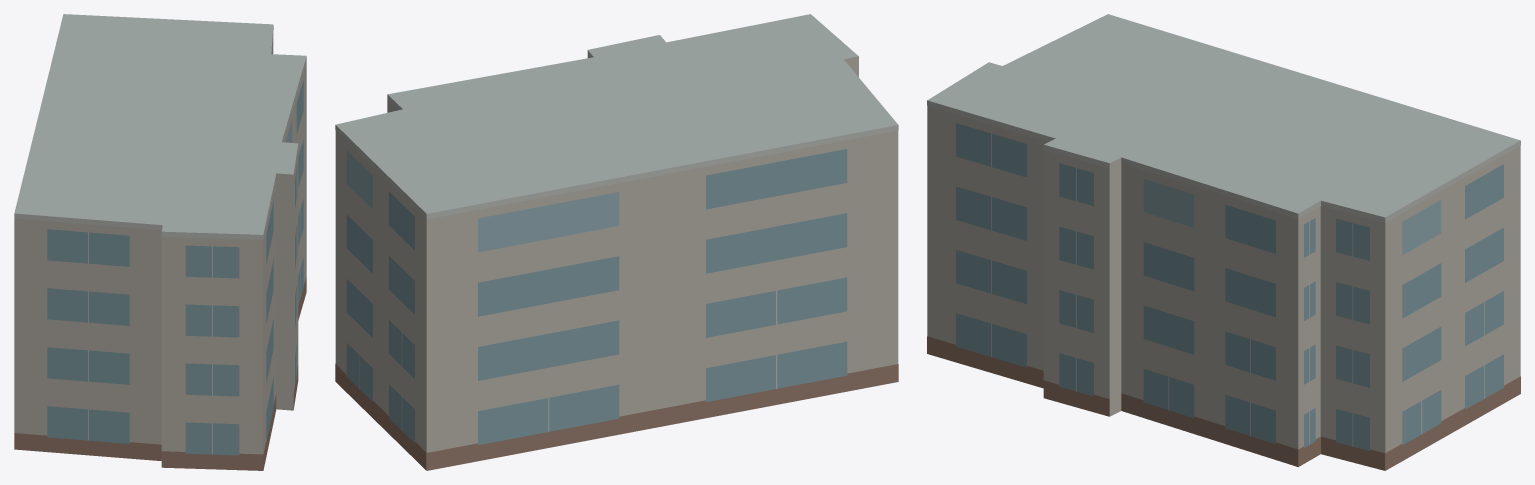
Rendered from survey-upis-32491895.glb.
3 renders of one model, left to right at view 1: azimuth 30°, elevation 25°; view 2: azimuth 150°, elevation 25°; view 3: azimuth 270°, elevation 25°, orthographic. The views are drawn at different scales.
Visible parts, largest first — view 1: survey-upis-32491895.tmp; view 2: survey-upis-32491895.tmp; view 3: survey-upis-32491895.tmp.
Part boxes in pixels (<box>): survey-upis-32491895.tmp: <box>14,14,306,470</box>; survey-upis-32491895.tmp: <box>335,14,898,470</box>; survey-upis-32491895.tmp: <box>927,14,1520,470</box>.
Size of the model in its own units: 19.8 by 11.5 by 24.41.
